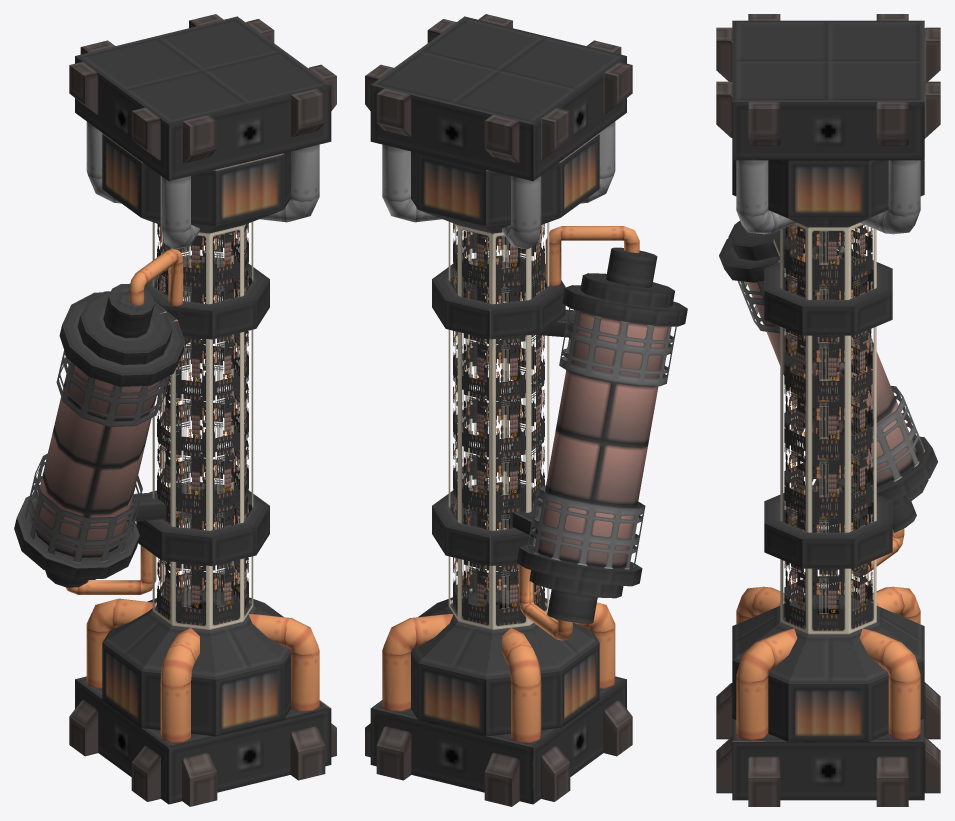
File: hephaestus.obj
The picture shows the model from 3 angles, left to right: view 1: azimuth 30°, elevation 25°; view 2: azimuth 150°, elevation 25°; view 3: azimuth 270°, elevation 25°; orthographic projection. The views are drawn at different scales.
Parts seen in each view (by area): view 1: Main, Rotor, Core; view 2: Main, Rotor, Core; view 3: Main, Core, Rotor.
Boxes of the visible parts, <box> form: Main: <box>69,14,336,806</box>; Rotor: <box>14,249,189,594</box>; Core: <box>157,223,248,625</box>; Main: <box>365,14,632,806</box>; Rotor: <box>507,226,687,640</box>; Core: <box>453,223,544,625</box>; Main: <box>716,14,940,806</box>; Core: <box>784,224,872,630</box>; Rotor: <box>719,221,937,575</box>.
Size of the model in its own units: 4.66 by 12 by 3.5.
